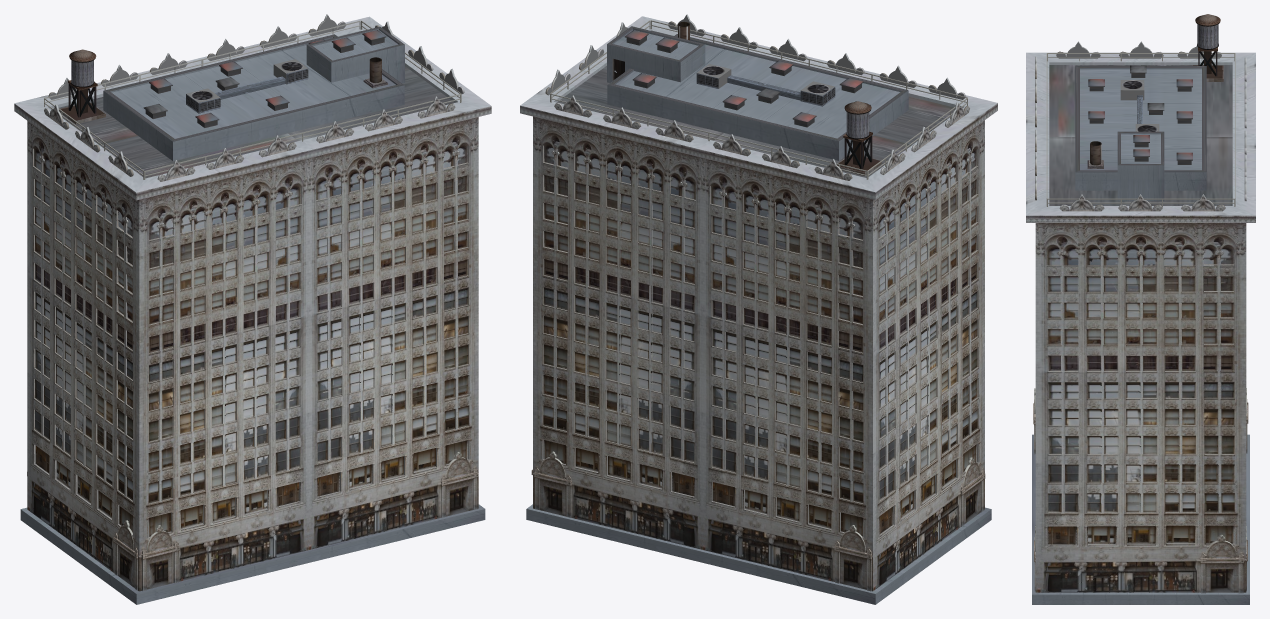
The picture shows the model from 3 angles, left to right: view 1: azimuth 30°, elevation 25°; view 2: azimuth 150°, elevation 25°; view 3: azimuth 270°, elevation 25°; orthographic projection. The views are drawn at different scales.
Parts seen in each view (by area): view 1: Bayard2_2, Bayard_0, Door_1; view 2: Bayard2_2, Bayard_0, Door_1; view 3: Bayard_0, Door_1.
Boxes of the visible parts, left/top/right/bottom form: Bayard2_2: left=139, top=117, right=478, bottom=591; Bayard_0: left=14, top=14, right=491, bottom=604; Door_1: left=27, top=451, right=478, bottom=590; Bayard2_2: left=533, top=116, right=872, bottom=591; Bayard_0: left=520, top=14, right=997, bottom=604; Door_1: left=531, top=451, right=985, bottom=591; Bayard_0: left=1026, top=14, right=1255, bottom=604; Door_1: left=1033, top=388, right=1248, bottom=593.
Size of the model in its own units: 33.22 by 42.64 by 19.77.
Materials: 1 (1 with a texture image).
